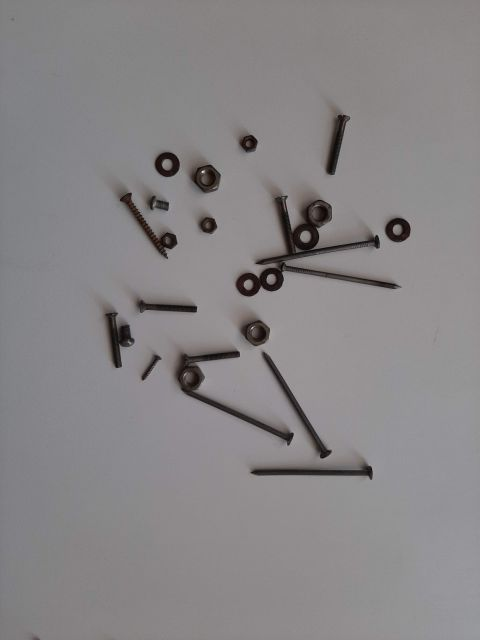gwozdz: (155, 365, 295, 445), (245, 335, 325, 445), (245, 215, 385, 275), (275, 245, 415, 305), (245, 445, 385, 475)
nakretka: (175, 135, 235, 205), (215, 105, 265, 155), (155, 355, 215, 395), (295, 185, 335, 235), (185, 205, 235, 235), (235, 305, 275, 335), (155, 215, 185, 245)
podkladka: (365, 185, 425, 245), (125, 125, 185, 185), (215, 245, 265, 305), (245, 245, 295, 305)
sruba: (65, 295, 125, 385), (125, 275, 215, 325), (305, 95, 355, 175), (245, 185, 305, 245), (175, 325, 245, 365)
